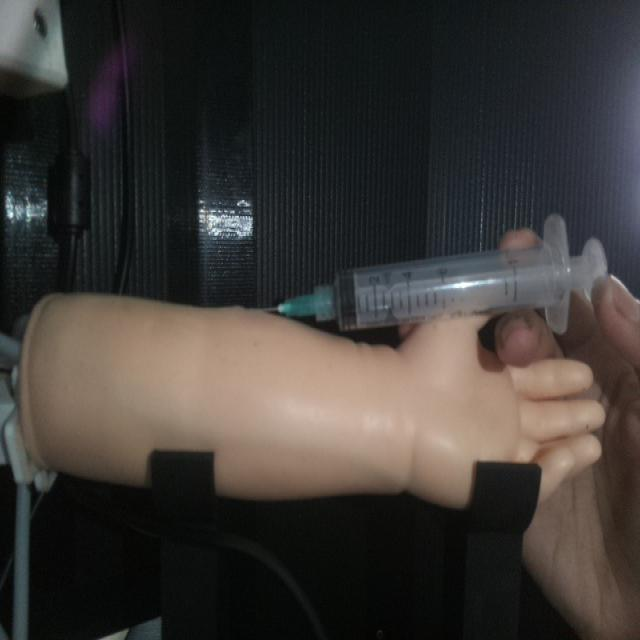Below 15 degrees: (261, 211, 612, 336)
